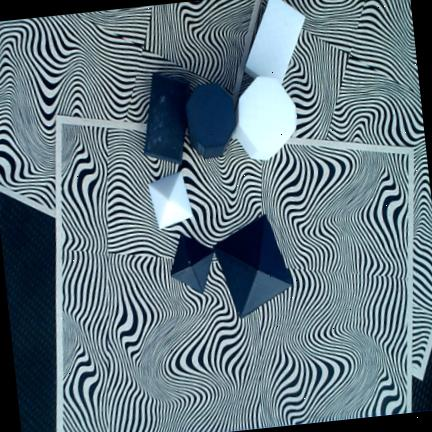Paralelepipedo: (244, 0, 305, 84), (145, 73, 189, 163)
Piramide: (213, 214, 293, 319), (148, 172, 193, 229), (171, 235, 214, 293)
Prisma_hexagonal: (233, 76, 297, 160), (187, 84, 236, 158)
